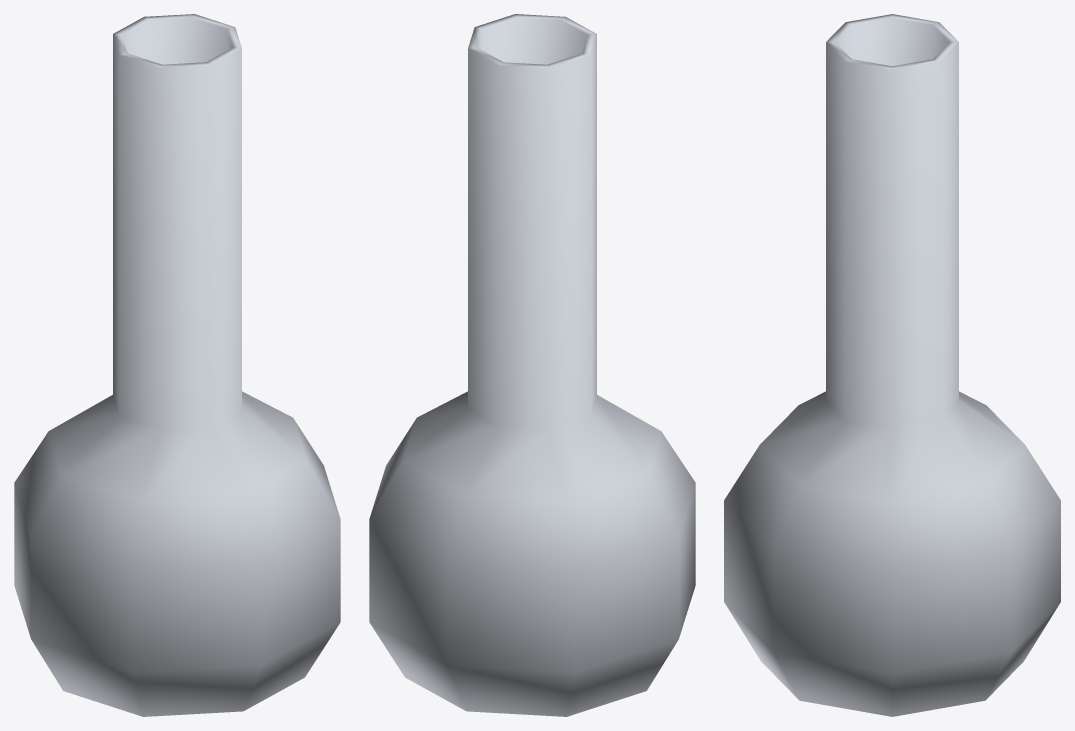
Rendered from bottle_glassware_florence_flask_large.glb.
3 renders of one model, left to right at view 1: azimuth 30°, elevation 25°; view 2: azimuth 150°, elevation 25°; view 3: azimuth 270°, elevation 25°, orthographic.
Visible parts, largest first — view 1: bottle_glassware_florence_flask_large; view 2: bottle_glassware_florence_flask_large; view 3: bottle_glassware_florence_flask_large.
Boxes of the visible parts, x1,y1,x2,y2 form: bottle_glassware_florence_flask_large: (14, 14, 340, 716); bottle_glassware_florence_flask_large: (369, 14, 695, 716); bottle_glassware_florence_flask_large: (724, 14, 1060, 716).
Bounding box in the file's own units: 14.4 × 29.22 × 14.4.
1 material, 1 textured.
